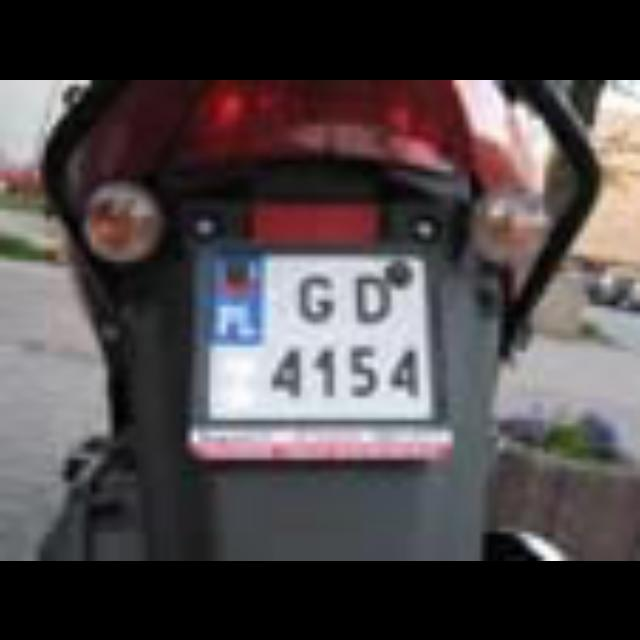pl_license_plate: (199, 249, 425, 413)
